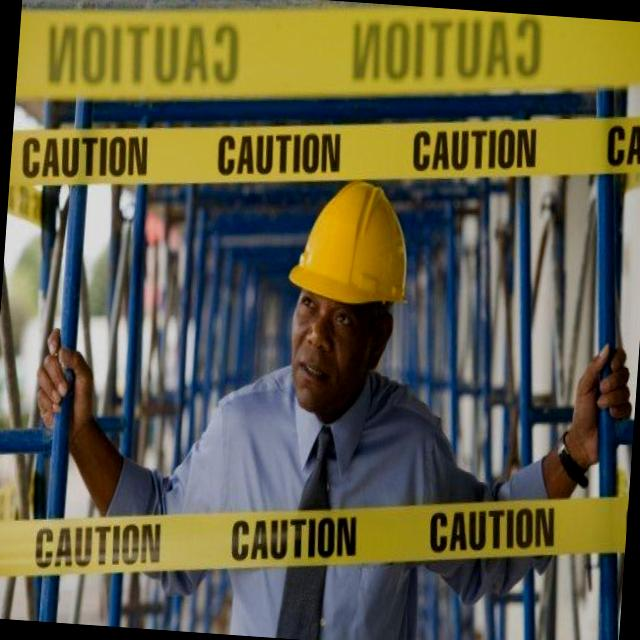helmet: (285, 178, 420, 311)
no-goggles: (291, 287, 384, 343)
no-vest: (216, 393, 428, 640)
